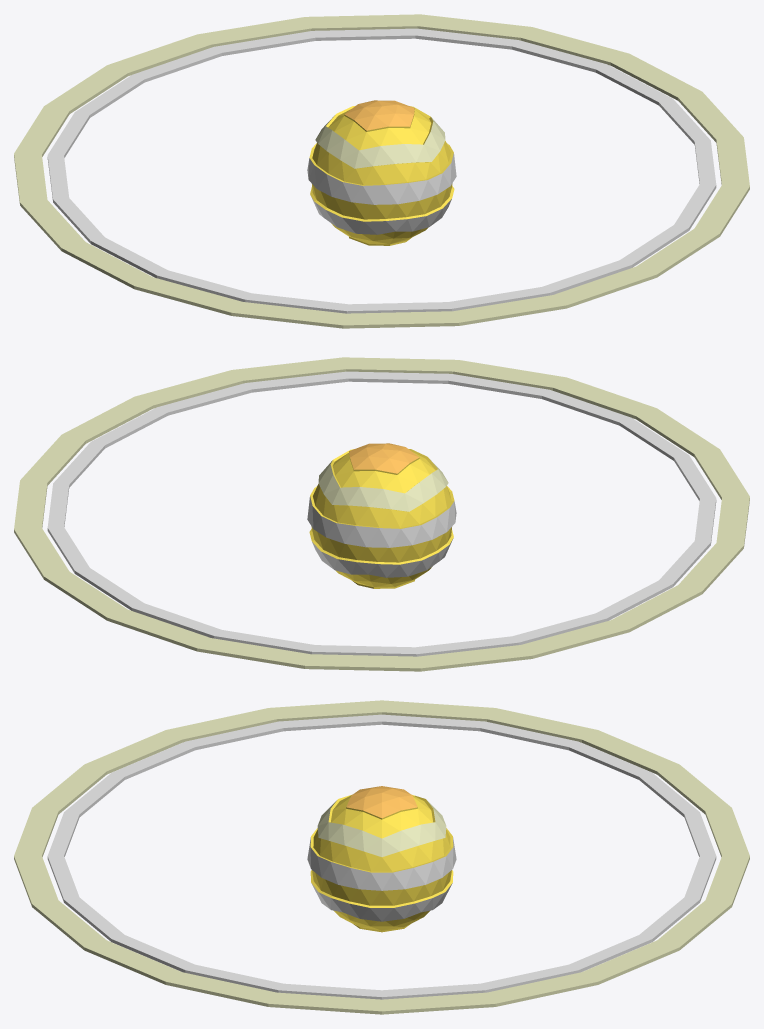
3 views of the same model, one above another, from view 1: azimuth 30°, elevation 25°; view 2: azimuth 150°, elevation 25°; view 3: azimuth 270°, elevation 25° (orthographic).
Parts seen in each view (by area): view 1: Circle.002, Circle.001, Icosphere; view 2: Circle.002, Circle.001, Icosphere; view 3: Circle.002, Circle.001, Icosphere.
Part boxes in pixels (box(x1,y1,x2,y2)): Circle.002: box(14, 14, 749, 328); Circle.001: box(47, 28, 716, 313); Icosphere: box(307, 100, 456, 245); Circle.002: box(14, 357, 749, 671); Circle.001: box(47, 371, 716, 656); Icosphere: box(307, 443, 456, 588); Circle.002: box(14, 700, 749, 1014); Circle.001: box(47, 714, 716, 999); Icosphere: box(307, 786, 456, 932).
Size of the model in its own units: 2386 by 475 by 2386.
